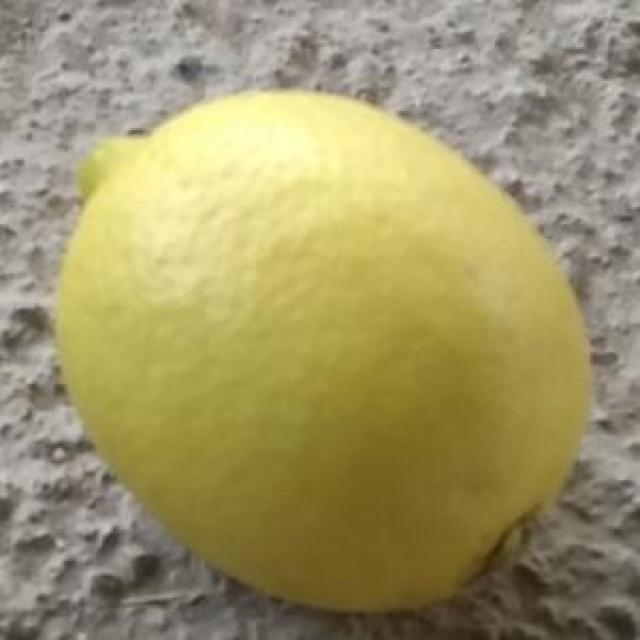lemon: (51, 84, 591, 618)
